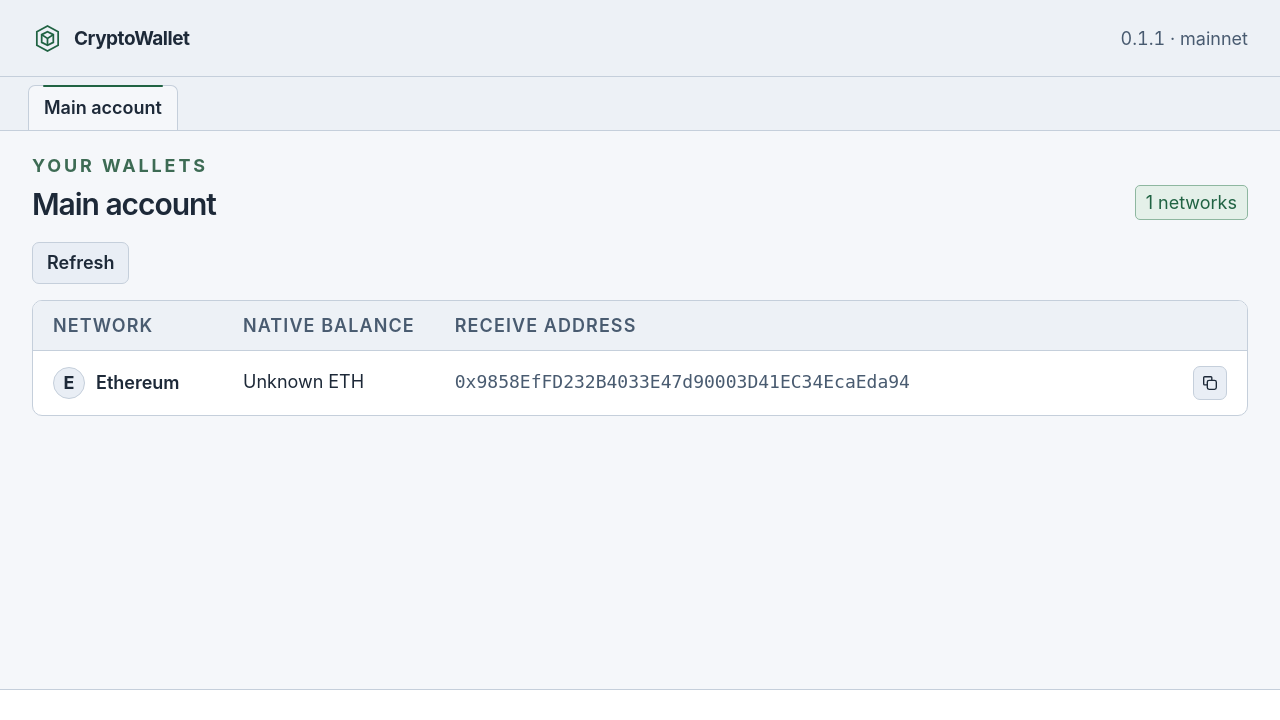
direct copying of displayed public receive addresses › shows fixed clipboard failure for false without falling back to the signer
What coordinates should you click on to do the following:
click the button named "Copy receive address"
I would click on:
 (1210, 383)
Its box is [1193,366,1227,400].
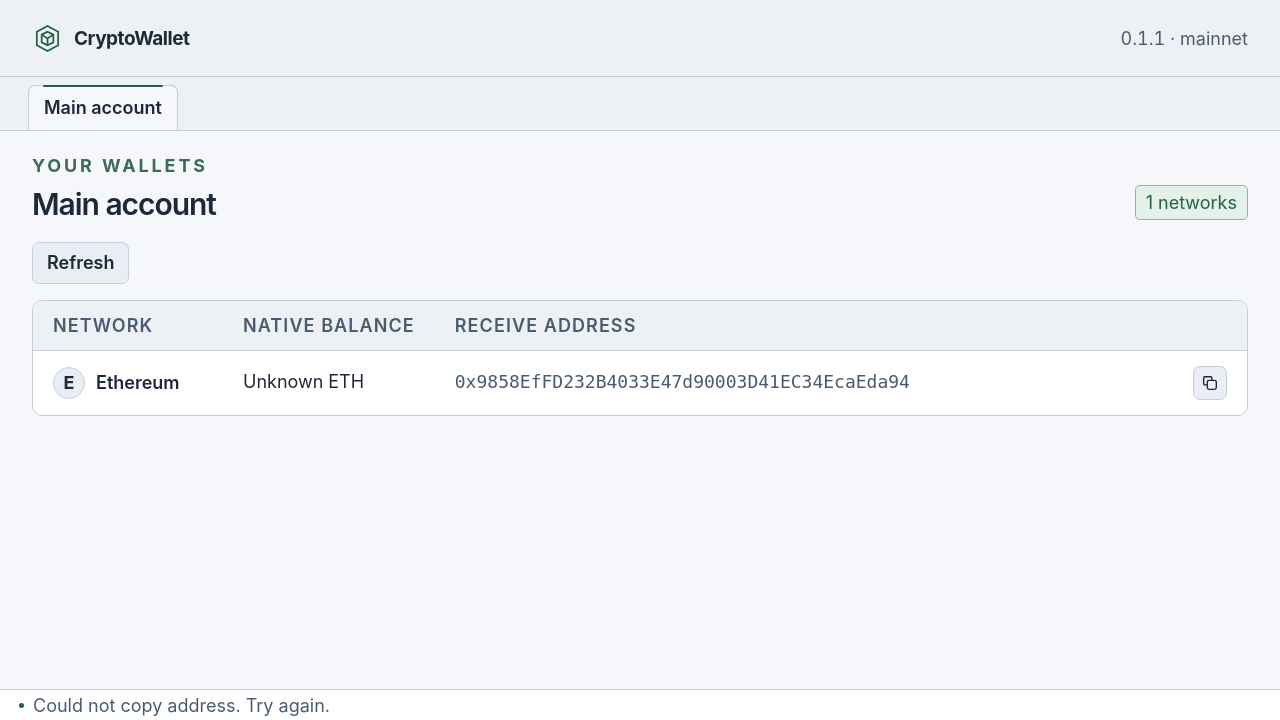
Now the footer with class "status-bar" reads "Could not copy address. Try again.", box [33,694,330,716]
